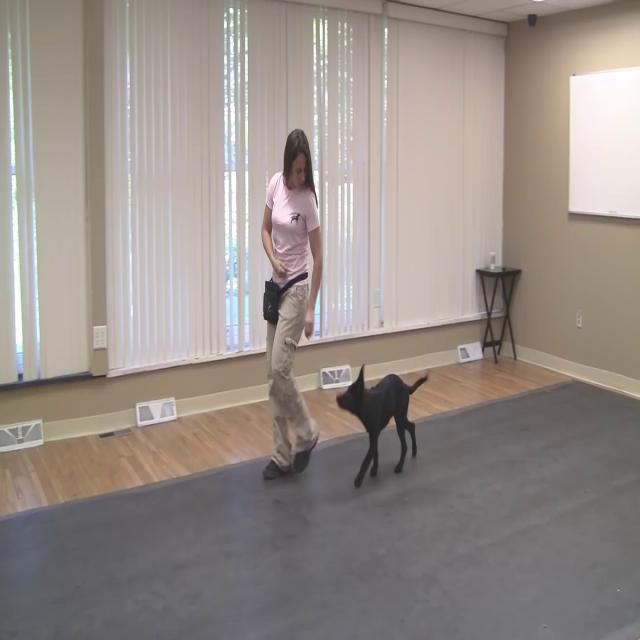Unleashed_Dog: (272, 364, 430, 487)
